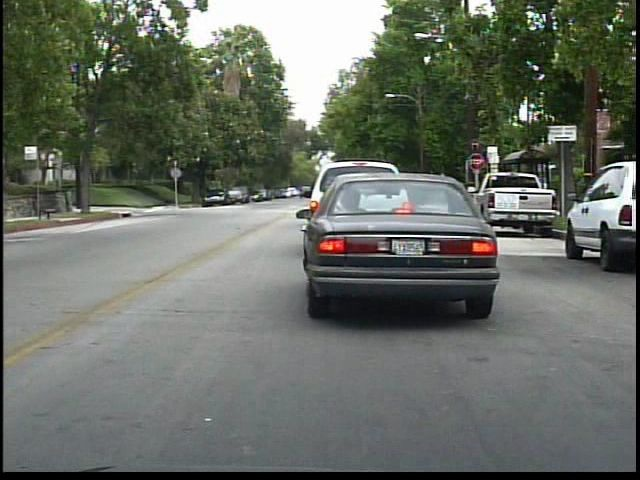person: (209, 178, 224, 204)
